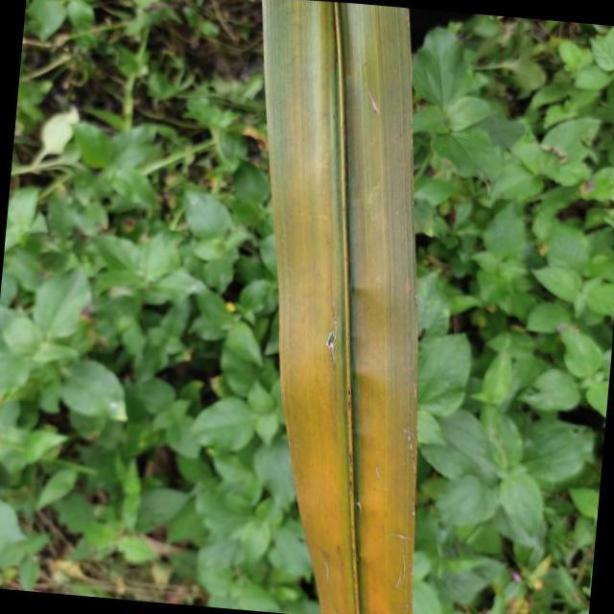Megnesium: (256, 1, 416, 614)
